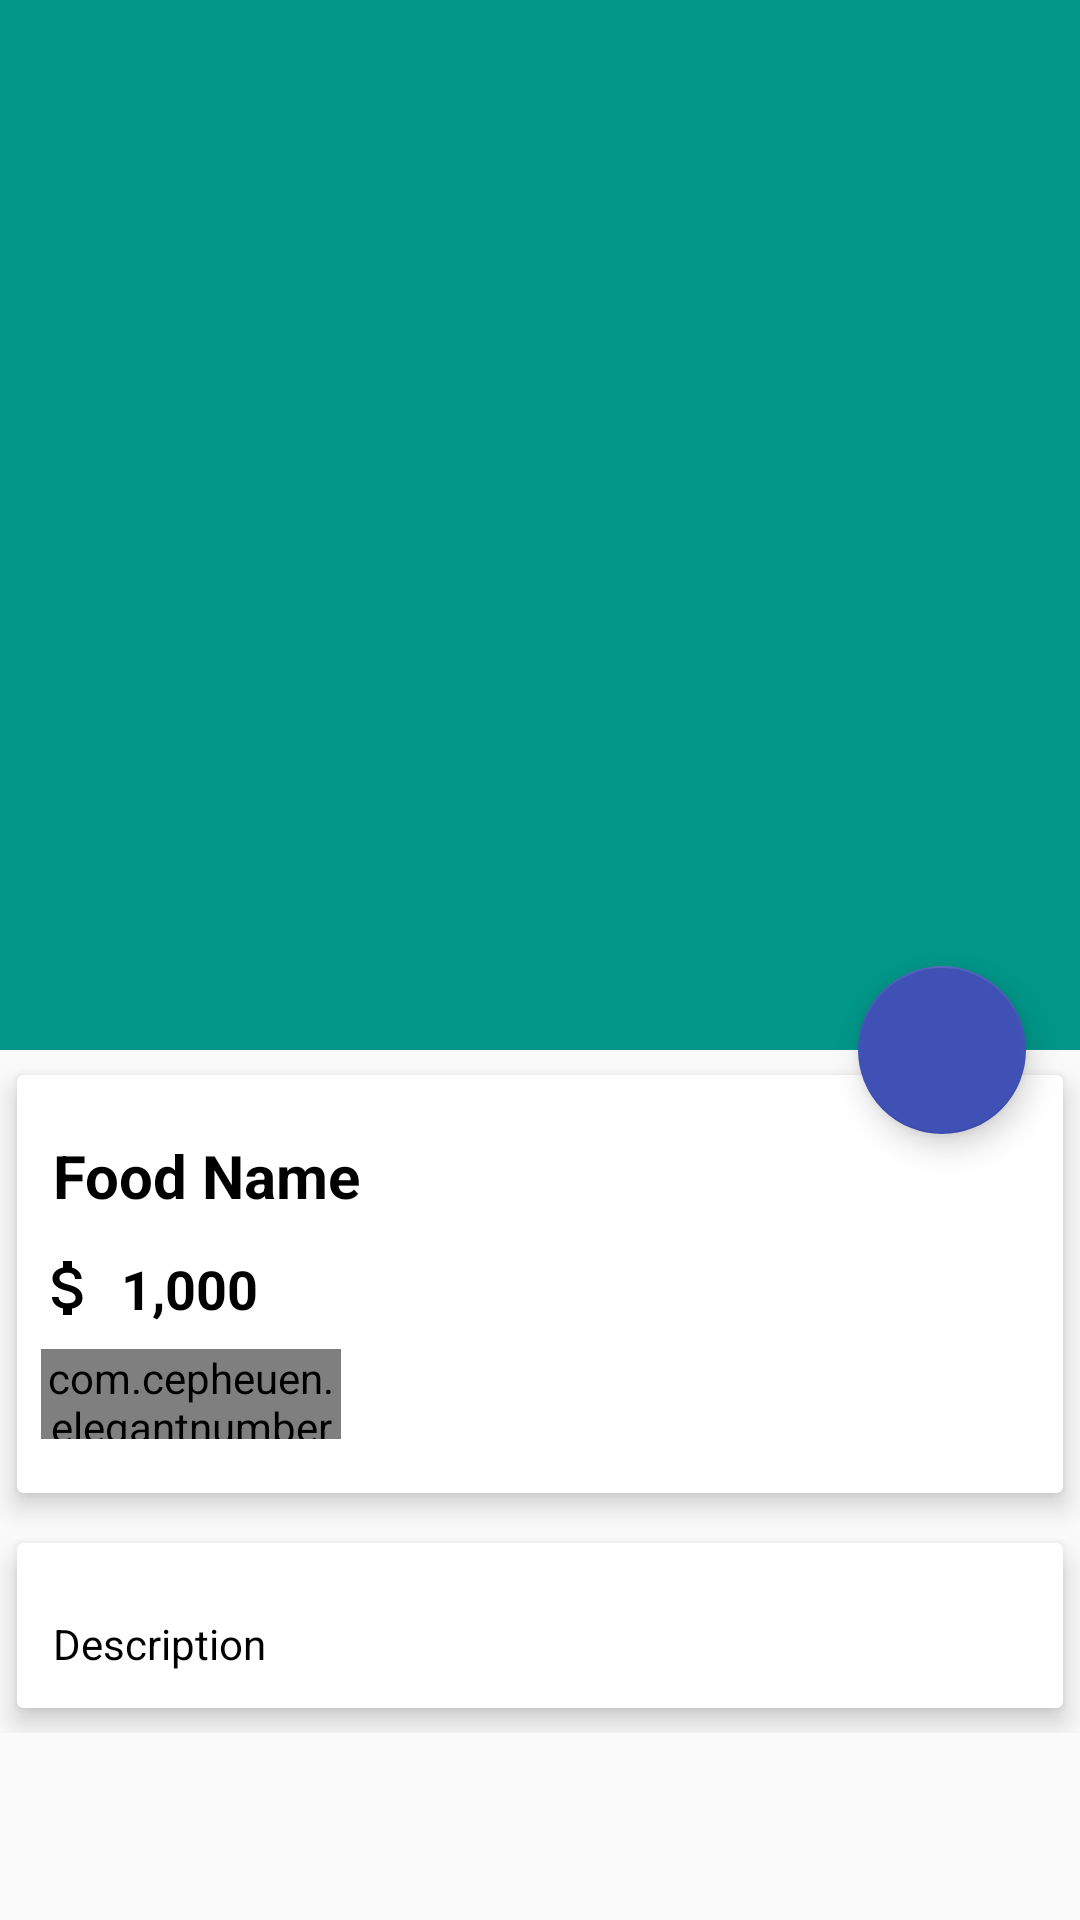

Where icons sit on this 1080 × 1920 app screen, as (x1, y1, x2, y2):
attach money: (52, 1261, 83, 1315)
